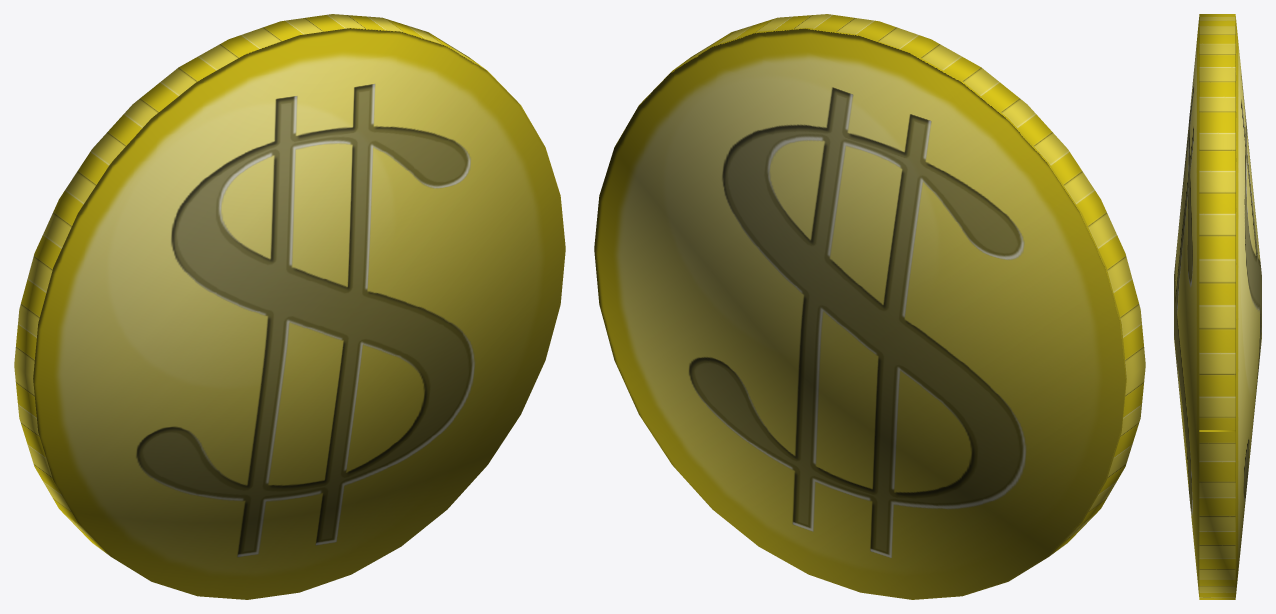
File: coin.fbx
3 views of the same model, side by side, from view 1: azimuth 30°, elevation 25°; view 2: azimuth 150°, elevation 25°; view 3: azimuth 270°, elevation 25° (orthographic). The views are drawn at different scales.
Parts seen in each view (by area): view 1: Circle; view 2: Circle; view 3: Circle.
Part boxes in pixels (bbox=[...]): Circle: bbox=[14, 14, 565, 599]; Circle: bbox=[594, 14, 1145, 599]; Circle: bbox=[1174, 14, 1261, 599].
Size of the model in its own units: 2 by 2 by 0.2999.
